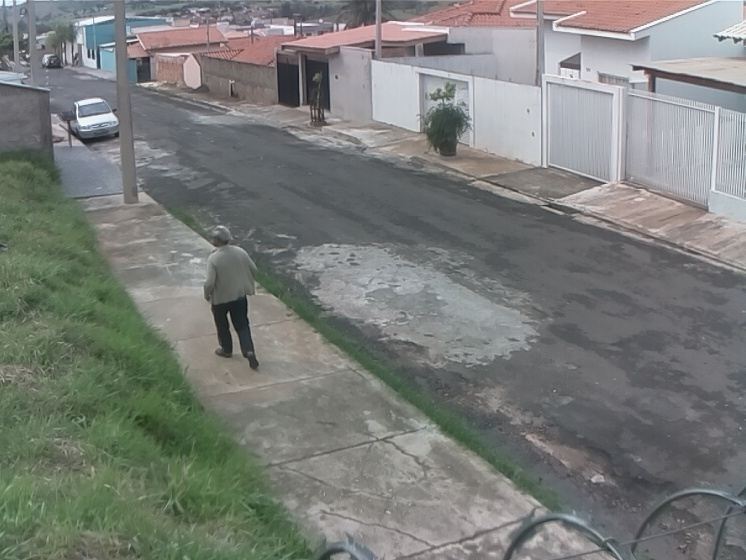person: (201, 222, 265, 374)
